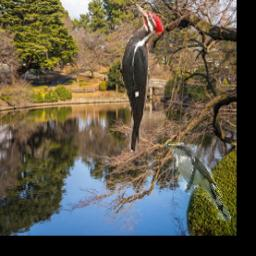Cuckoo: (166, 142, 232, 221)
Woodpecker: (120, 1, 165, 151)
